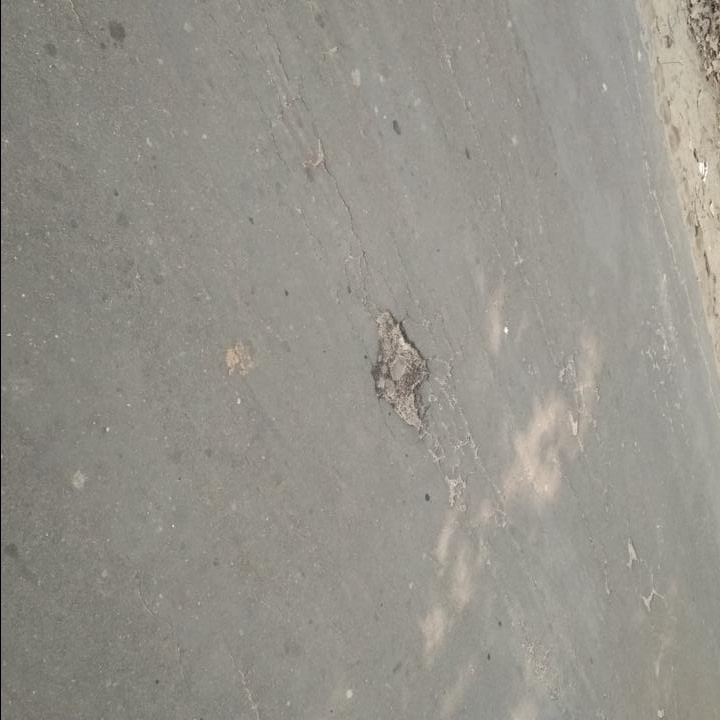pothole: (373, 302, 435, 434)
